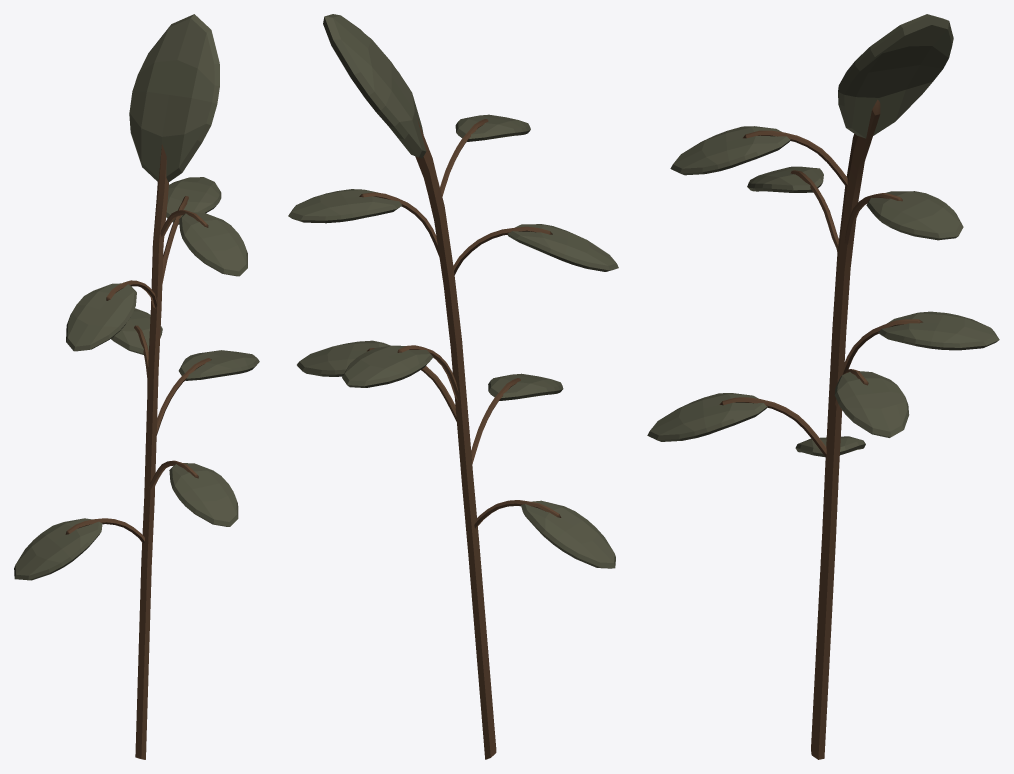
File: Plant2.fbx
3 views of the same model, side by side, from view 1: azimuth 30°, elevation 25°; view 2: azimuth 150°, elevation 25°; view 3: azimuth 270°, elevation 25° (orthographic). The views are drawn at different scales.
Parts seen in each view (by area): view 1: LangPlantje; view 2: LangPlantje; view 3: LangPlantje.
Boxes of the visible parts, x1=… form: LangPlantje: x1=14, y1=14, x2=259, y2=759; LangPlantje: x1=288, y1=14, x2=618, y2=759; LangPlantje: x1=647, y1=14, x2=999, y2=759.
Size of the model in its own units: 0.0344 by 0.0852 by 0.034.
